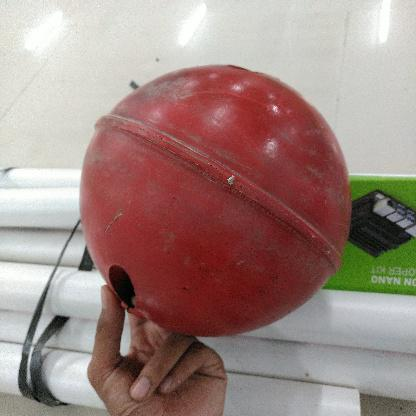red_buoy: (78, 63, 352, 336)
